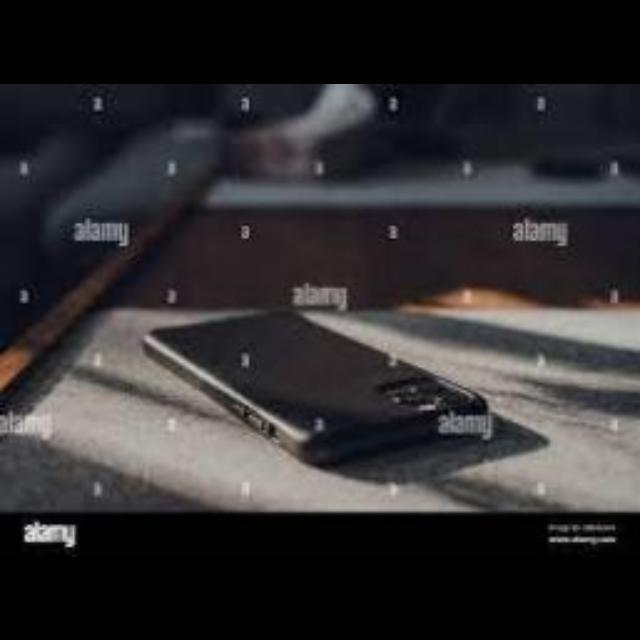PhoneUse: (140, 290, 492, 464)
SafeDriving: (358, 208, 432, 250)
